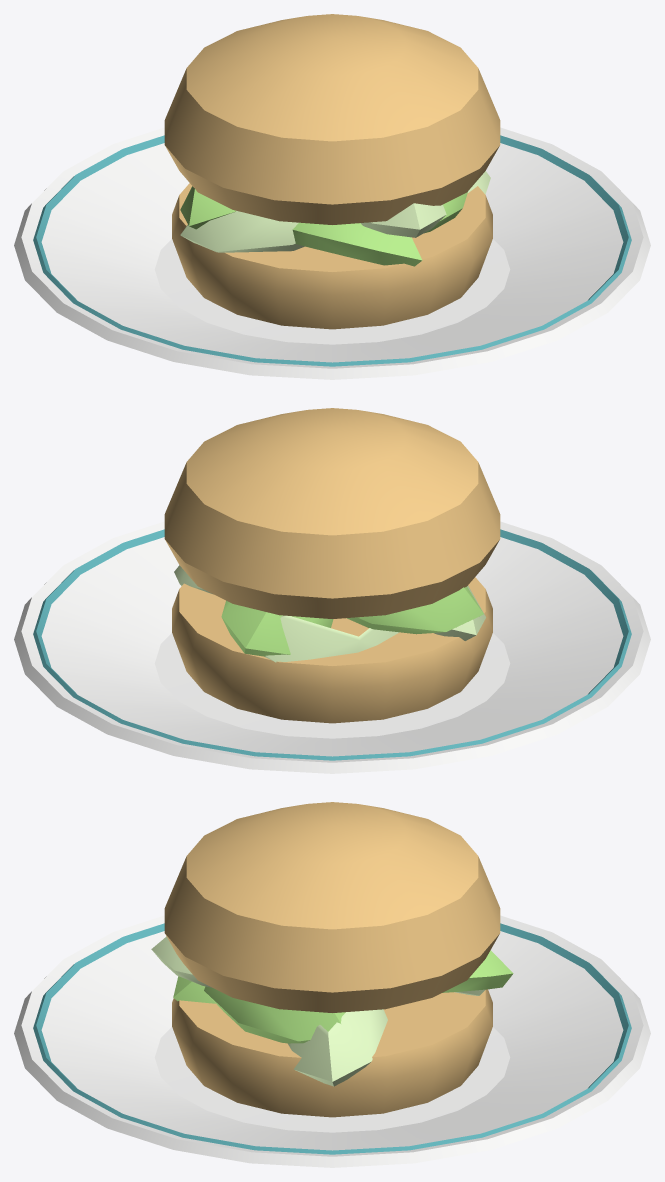
Rendered from kr_p_bun_lettuce.glb.
The picture shows the model from 3 angles, top to bottom: view 1: azimuth 30°, elevation 25°; view 2: azimuth 150°, elevation 25°; view 3: azimuth 270°, elevation 25°; orthographic projection.
Parts seen in each view (by area): view 1: vc_m0_r4, vc_m0_r2; view 2: vc_m0_r4, vc_m0_r2; view 3: vc_m0_r4, vc_m0_r2.
Part boxes in pixels (bbox=[...]): vc_m0_r4: bbox=[33, 14, 631, 366]; vc_m0_r2: bbox=[14, 127, 650, 379]; vc_m0_r4: bbox=[33, 408, 631, 760]; vc_m0_r2: bbox=[14, 521, 650, 773]; vc_m0_r4: bbox=[33, 802, 631, 1154]; vc_m0_r2: bbox=[14, 915, 650, 1167].
Size of the model in its own units: 0.43 by 0.19 by 0.43.
